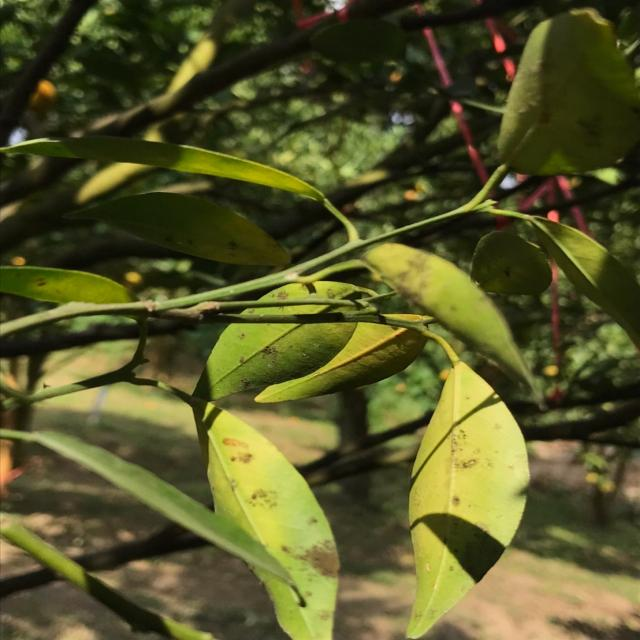canker: (199, 423, 347, 624), (394, 409, 520, 569), (489, 51, 640, 176), (206, 282, 364, 400), (372, 244, 520, 354)
